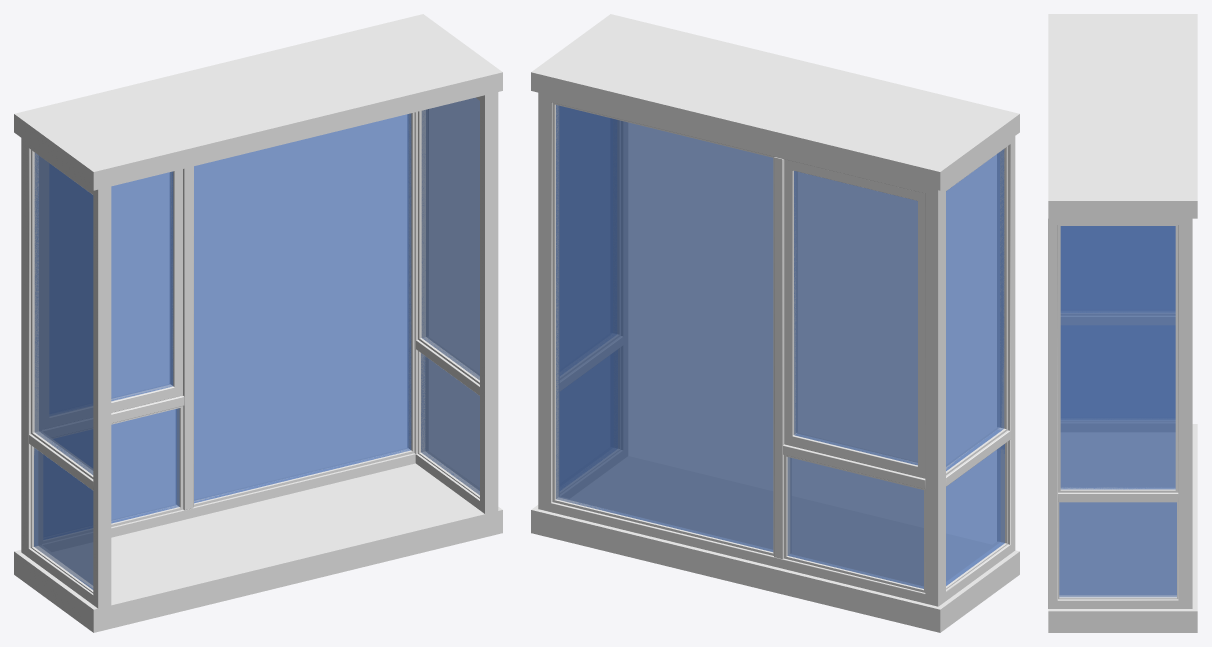
3 renders of one model, left to right at view 1: azimuth 30°, elevation 25°; view 2: azimuth 150°, elevation 25°; view 3: azimuth 270°, elevation 25°, orthographic. The views are drawn at different scales.
Parts seen in each view (by area): view 1: 1007; view 2: 1007; view 3: 1007.
Part boxes in pixels (left/top/right/bottom): 1007: left=14, top=14, right=502, bottom=632; 1007: left=531, top=14, right=1019, bottom=632; 1007: left=1048, top=14, right=1197, bottom=632.
Bounding box in the file's own units: 1840 × 1980 × 620.
